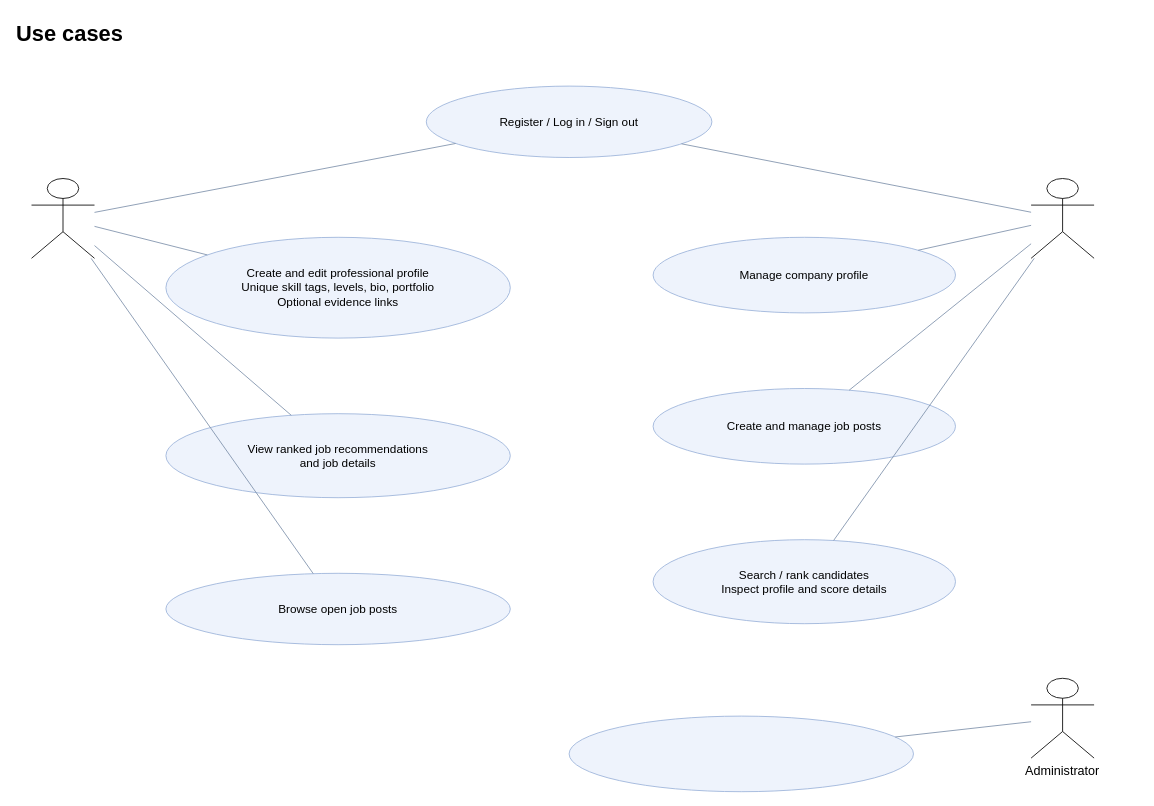
Image size: 1154x806. Some labels were removed from this diagram. Each missing label, with the centre of its shape:
Employer: the point at 1062,218
Job seeker: the point at 62,218
Manage users, profiles and jobs: the point at 741,753
